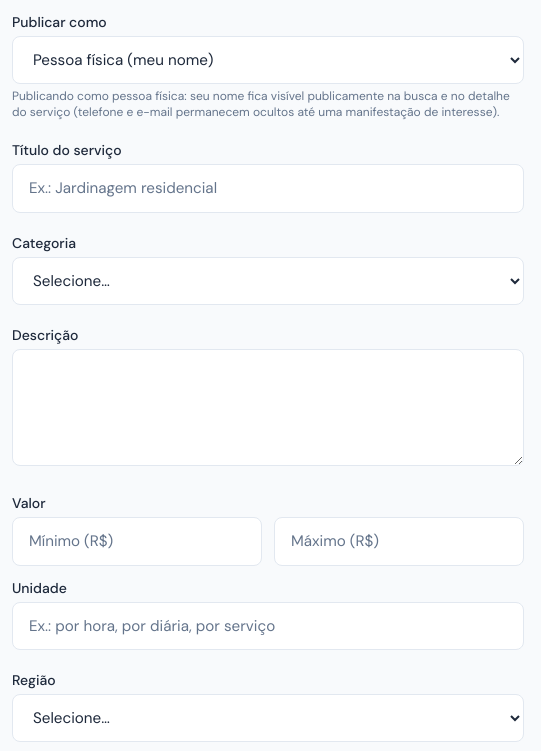
ServiceForm — seletor PF vs Empresa (AC-029-1) › ao escolher a Empresa, o aviso de exposição de nome (PF) some
Select "Em nome de Verde Ltda" in the dropdown labelled "Publicar como" at (268, 60), box [12, 36, 524, 84]
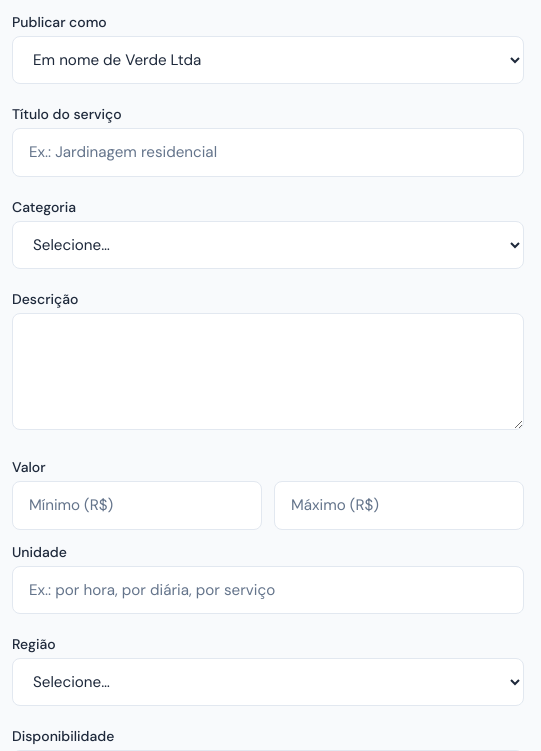
Expected: the text "seu nome fica visível publicamente" is gone
